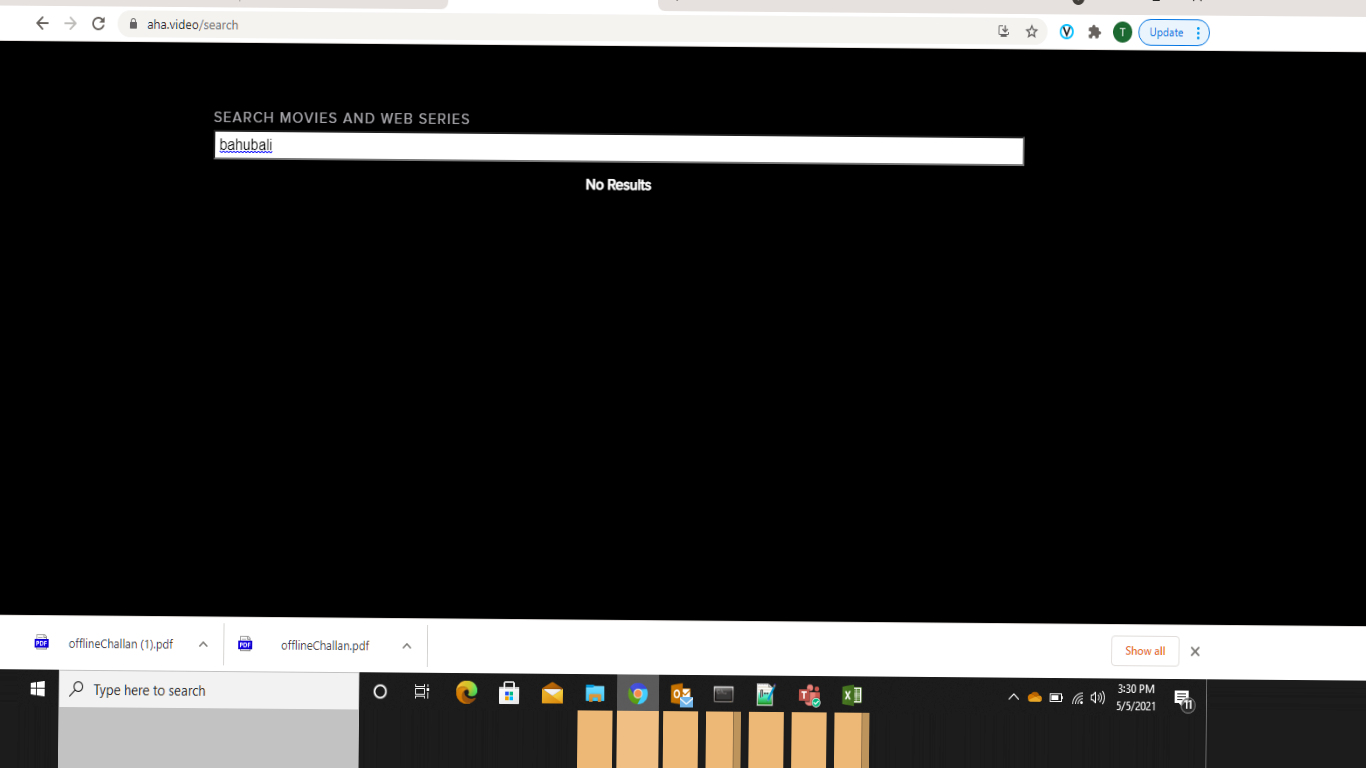noresultsfound: (574, 170, 668, 198)
searchtextbox: (164, 88, 1051, 181)
